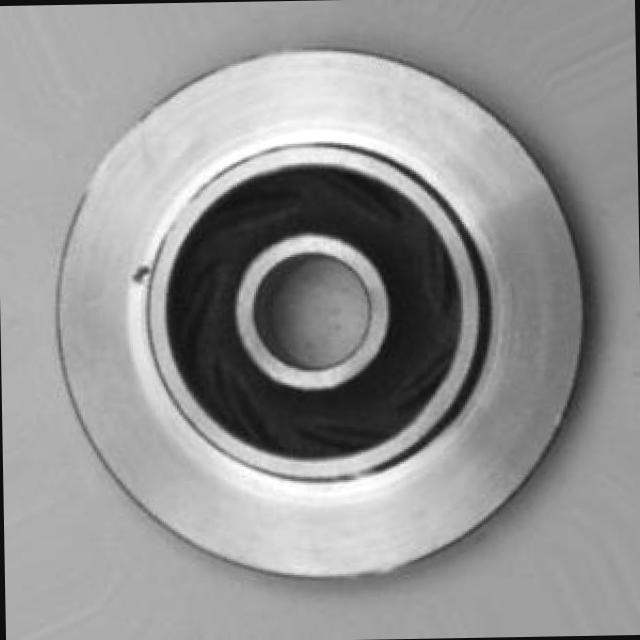Defect: (127, 255, 152, 292)
